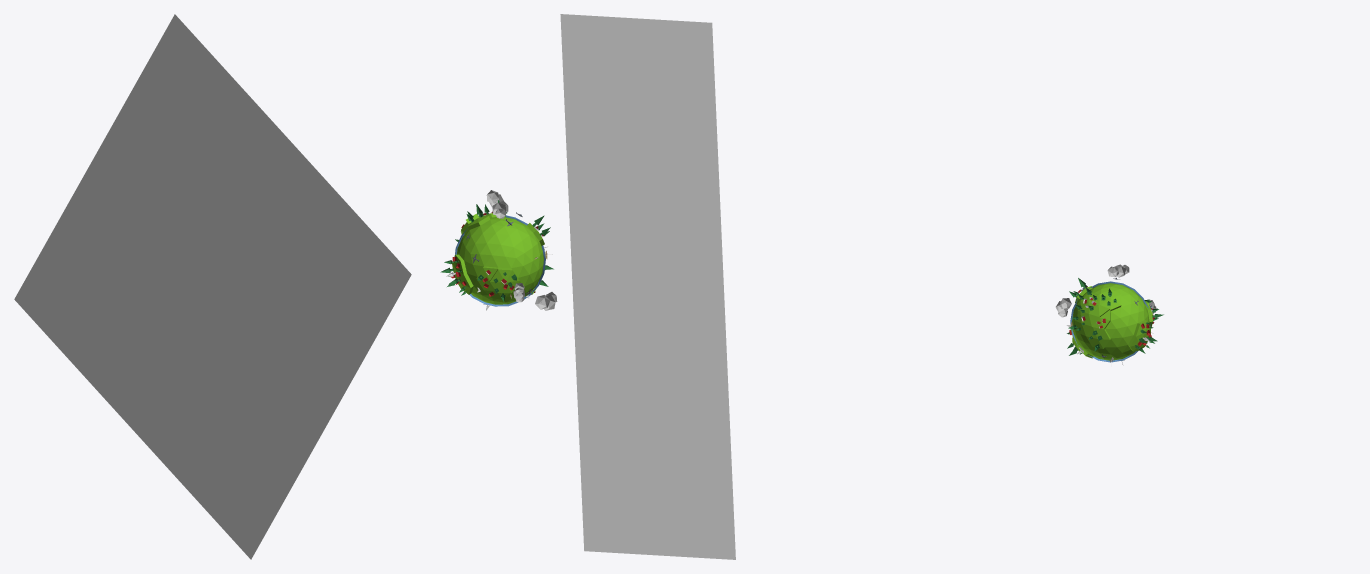
3 renders of one model, left to right at view 1: azimuth 30°, elevation 25°; view 2: azimuth 150°, elevation 25°; view 3: azimuth 270°, elevation 25°, orthographic. The views are drawn at different scales.
Parts seen in each view (by area): view 1: Plane.003; view 2: Plane.003, Icosphere, Icosphere.005, Icosphere.001; view 3: Icosphere.
Boxes of the visible parts, <box> form: Plane.003: <box>14,14,411,559</box>; Plane.003: <box>560,14,735,559</box>; Icosphere: <box>452,213,544,304</box>; Icosphere.005: <box>486,190,557,310</box>; Icosphere.001: <box>455,215,545,306</box>; Icosphere: <box>1070,283,1152,360</box>.
Size of the model in its own units: 719 by 1592 by 1523.
